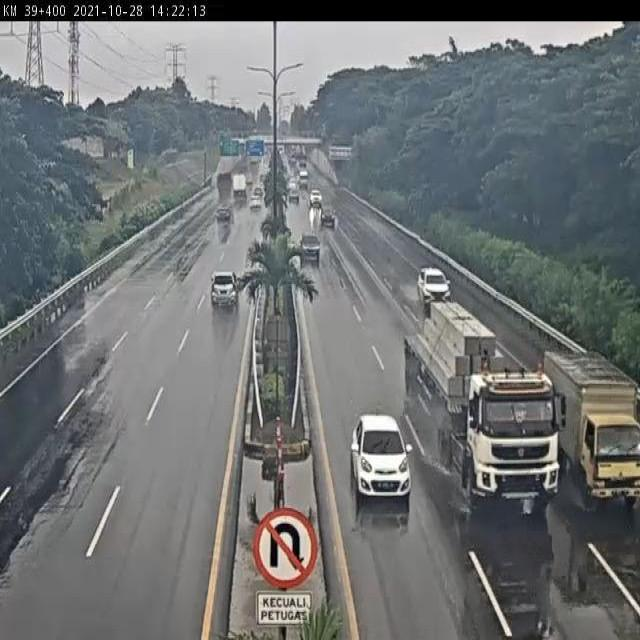big truck: (410, 322, 566, 518)
car: (344, 410, 412, 510), (408, 261, 453, 312), (211, 266, 240, 310), (299, 233, 322, 266), (211, 204, 234, 231), (246, 193, 264, 219), (316, 207, 337, 229)
small truck: (565, 350, 640, 514)
